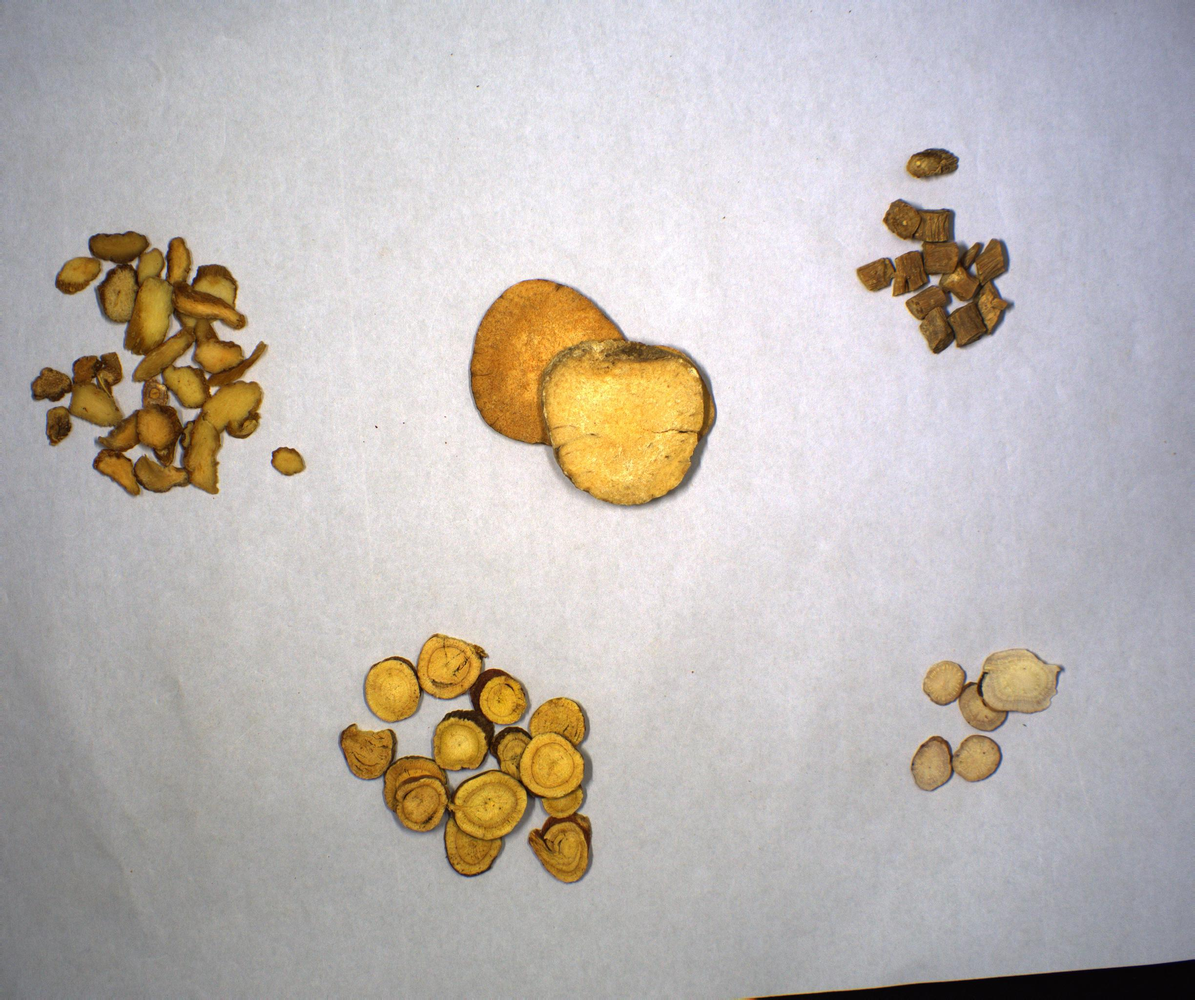baishao: (909, 648, 1069, 795)
gancaopian: (339, 635, 598, 886)
niuxi: (857, 148, 1020, 354)
yuzhu: (27, 229, 309, 499)
zexie: (470, 277, 718, 511)
